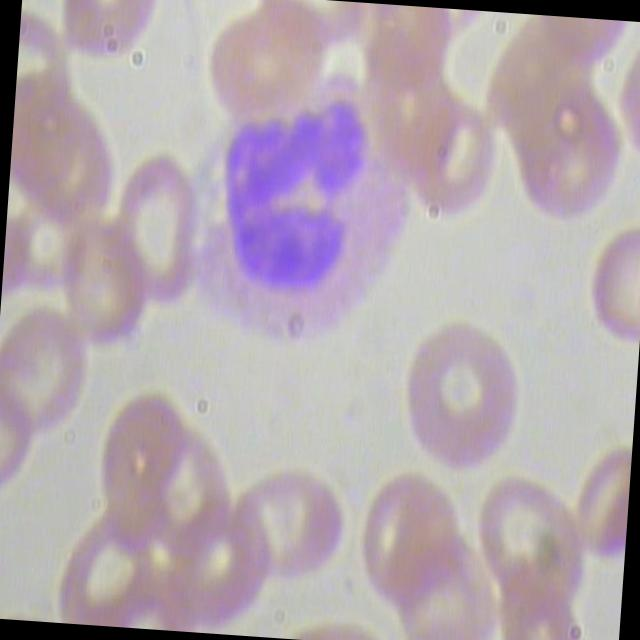RBC: (397, 314, 535, 476), (462, 474, 590, 632), (349, 464, 476, 622), (106, 154, 207, 316), (219, 468, 349, 592), (49, 509, 162, 629), (0, 305, 91, 442), (579, 225, 640, 354)
WBC: (168, 62, 422, 368)
